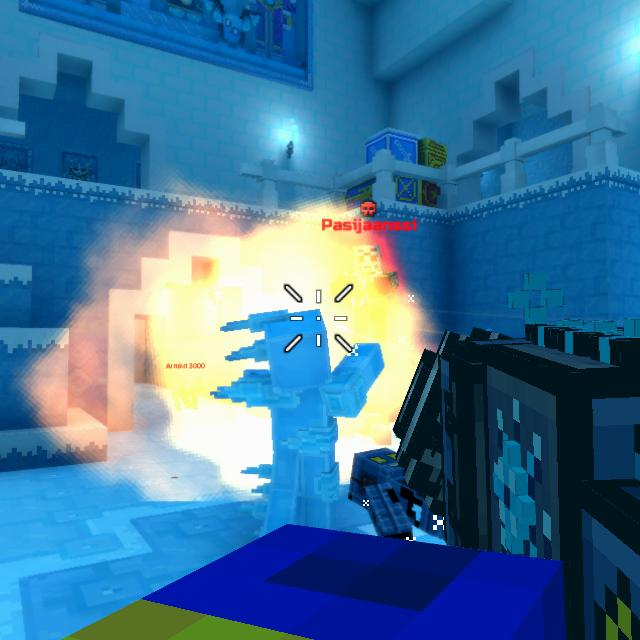Enemy: (331, 244, 399, 342)
